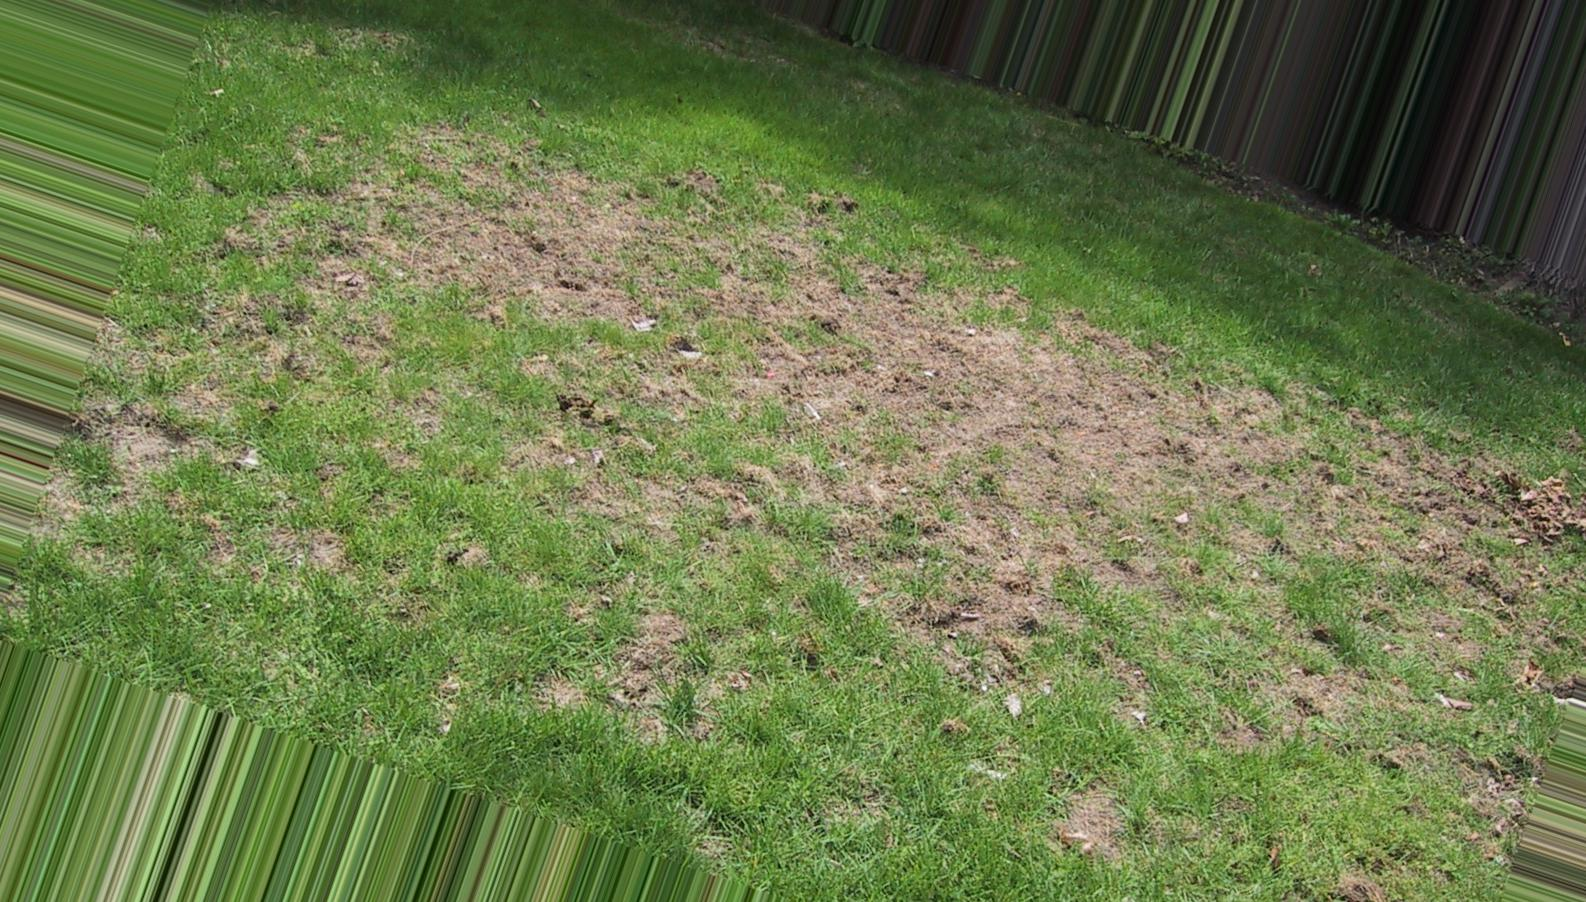patch: (432, 195, 652, 312)
